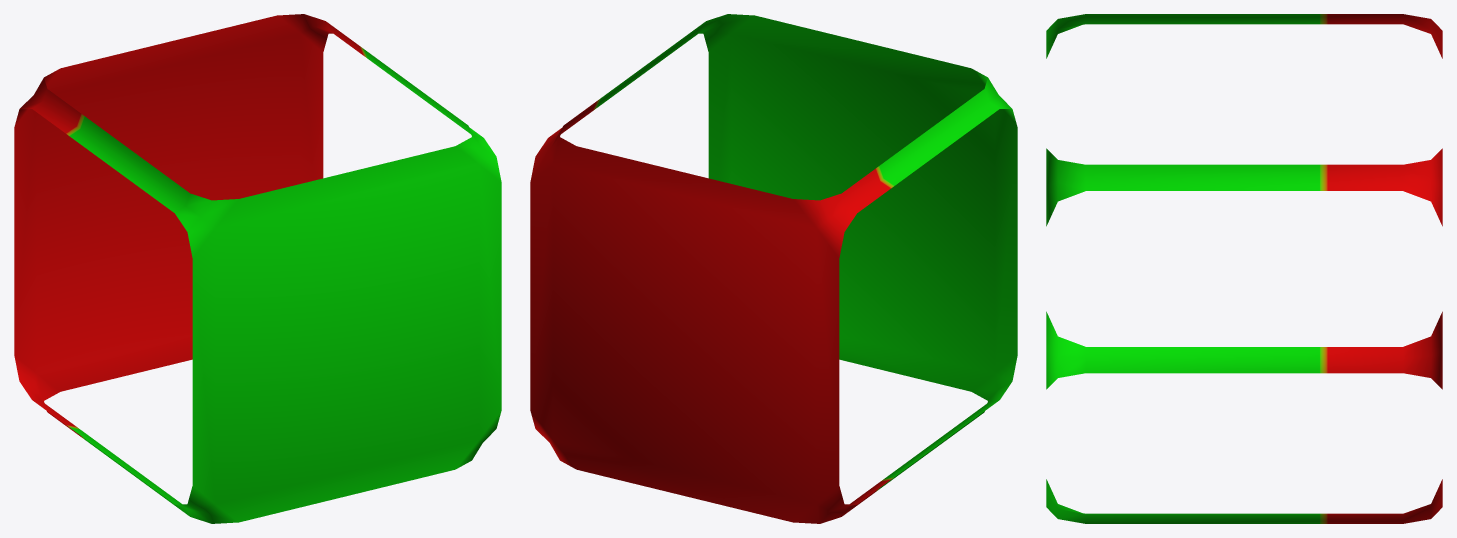
The model's file is Grass-+.fbx.
3 views of the same model, side by side, from view 1: azimuth 30°, elevation 25°; view 2: azimuth 150°, elevation 25°; view 3: azimuth 270°, elevation 25° (orthographic). The views are drawn at different scales.
Parts seen in each view (by area): view 1: Grass-+; view 2: Grass-+; view 3: Grass-+.
Part boxes in pixels (<box>): Grass-+: <box>14,14,501,523</box>; Grass-+: <box>530,14,1017,523</box>; Grass-+: <box>1046,14,1442,523</box>.
Bounding box in the file's own units: 100 × 100 × 100.
